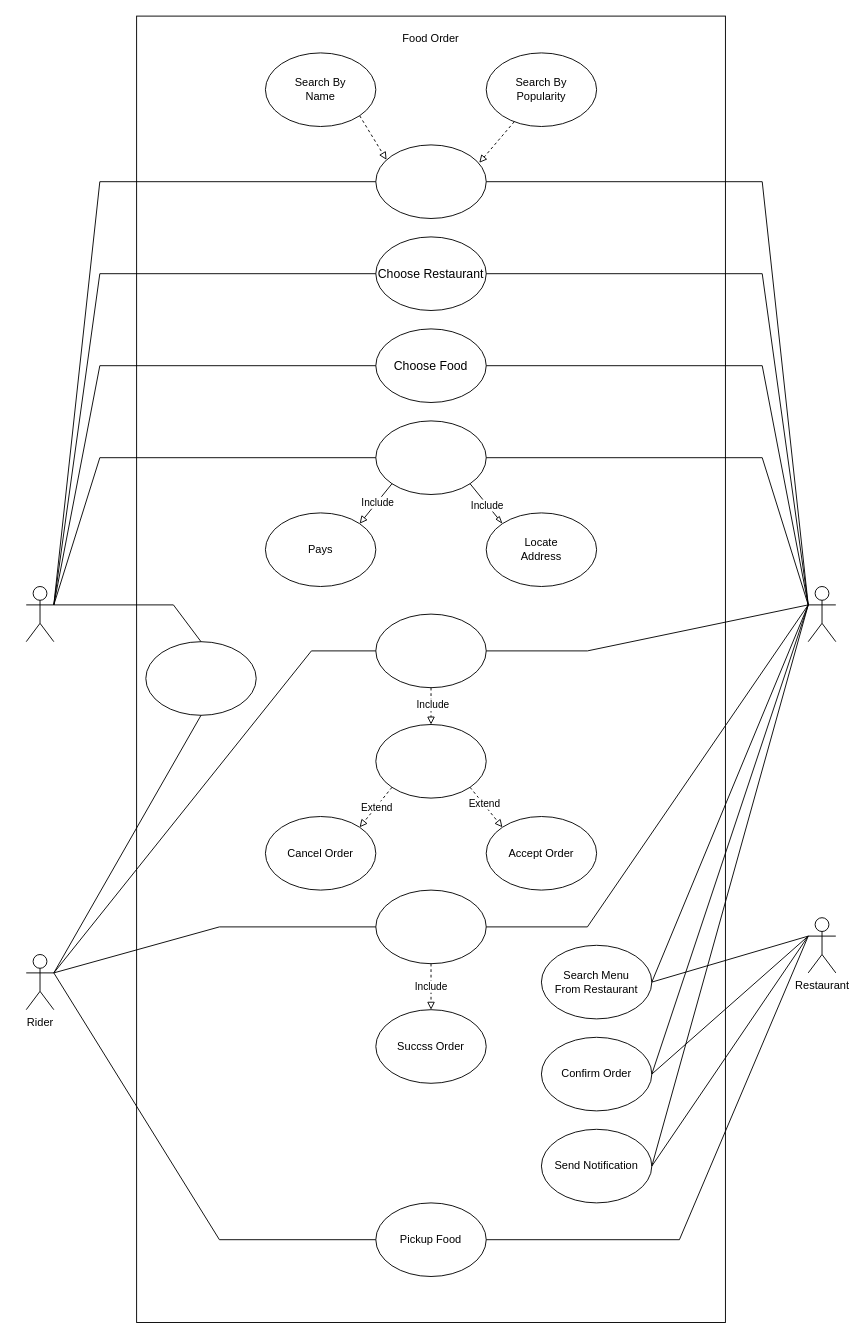
Some shapes in this 865 by 1339 pixel diagram are drawn without their labels. The box of each missing label's shape, as (x1, y1, x2, y2) in pixels:
Application: (807, 586, 836, 642)
Choose Menu: (375, 420, 486, 494)
Choose Order: (375, 724, 486, 798)
Customer: (25, 586, 54, 642)
Delivery Food: (145, 641, 256, 715)
Open Order menuml-use-case-block-text-value: (375, 613, 486, 688)
Search Restaurant: (375, 144, 486, 218)
View Current Order: (375, 889, 486, 964)
